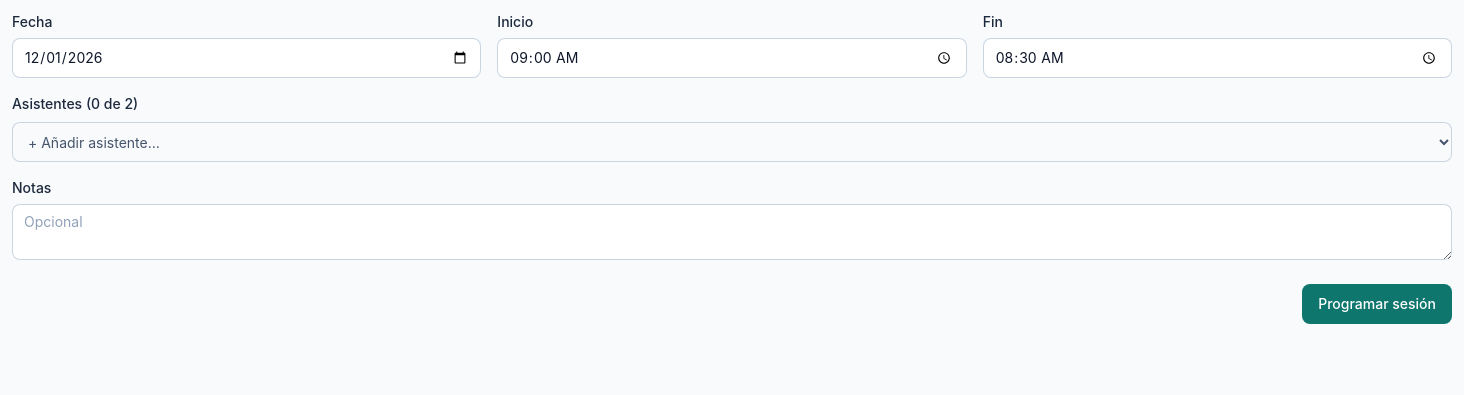
Test: SessionForm › valida que haya asistentes y que la hora de fin sea posterior
Click the button "Programar sesión" at (1377, 304), box [1302,284,1452,324]
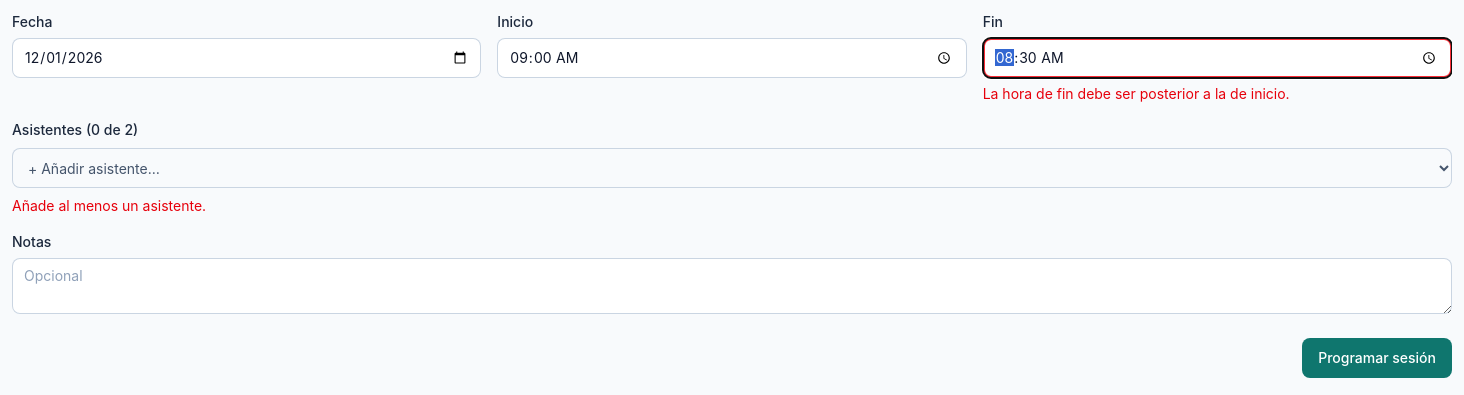
Now the text "Añade al menos un asistente." is shown, box [12,197,206,214]
Now the text "La hora de fin debe ser posterior a la de inicio." is shown, box [983,85,1290,102]
